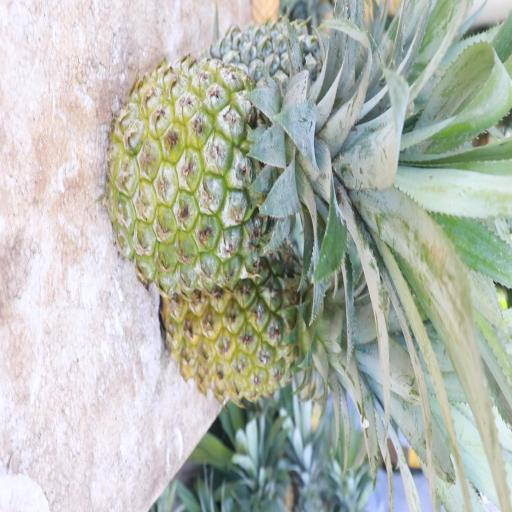------------------------------: (106, 52, 408, 300)
Pineapple - v8 v1: (153, 216, 389, 406)
